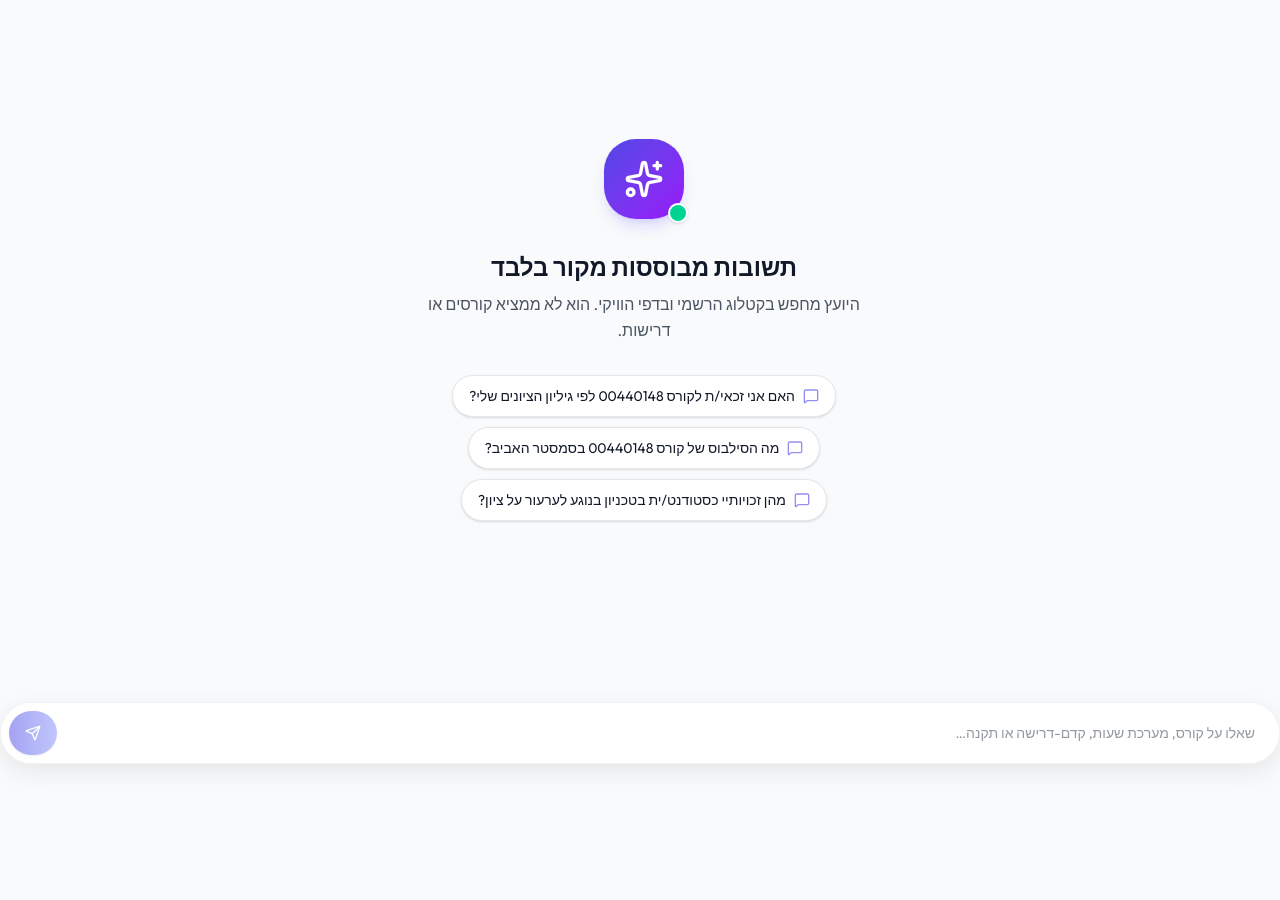
it: AdvisorPage › keeps what already streamed when the failure arrives part way through
Type "How many credits do I have left?" into the field with test id "advisor-input" at (668, 733), box left=65, top=711, right=1271, bottom=755
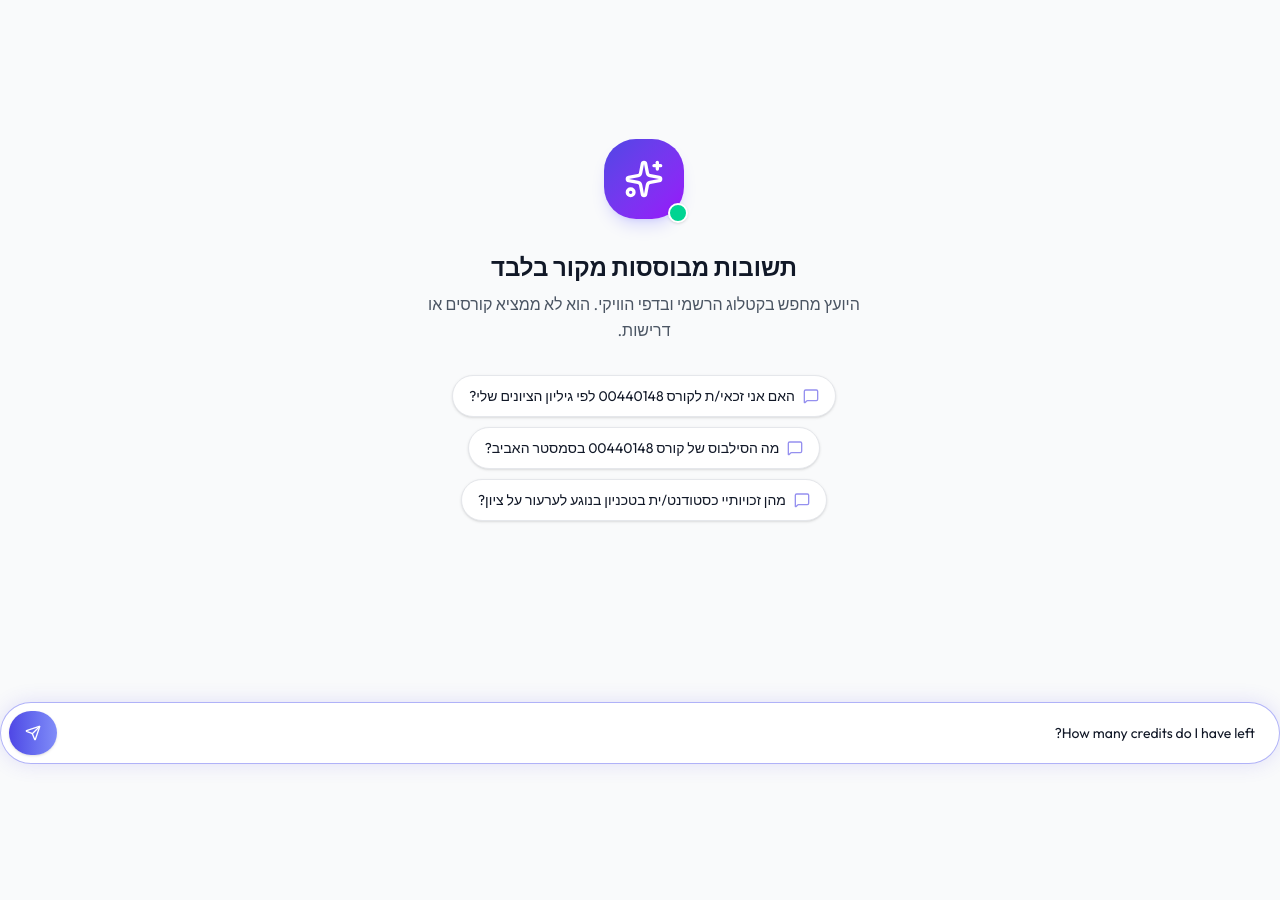
Click the button with test id "advisor-submit" at (33, 733), box left=9, top=711, right=57, bottom=755
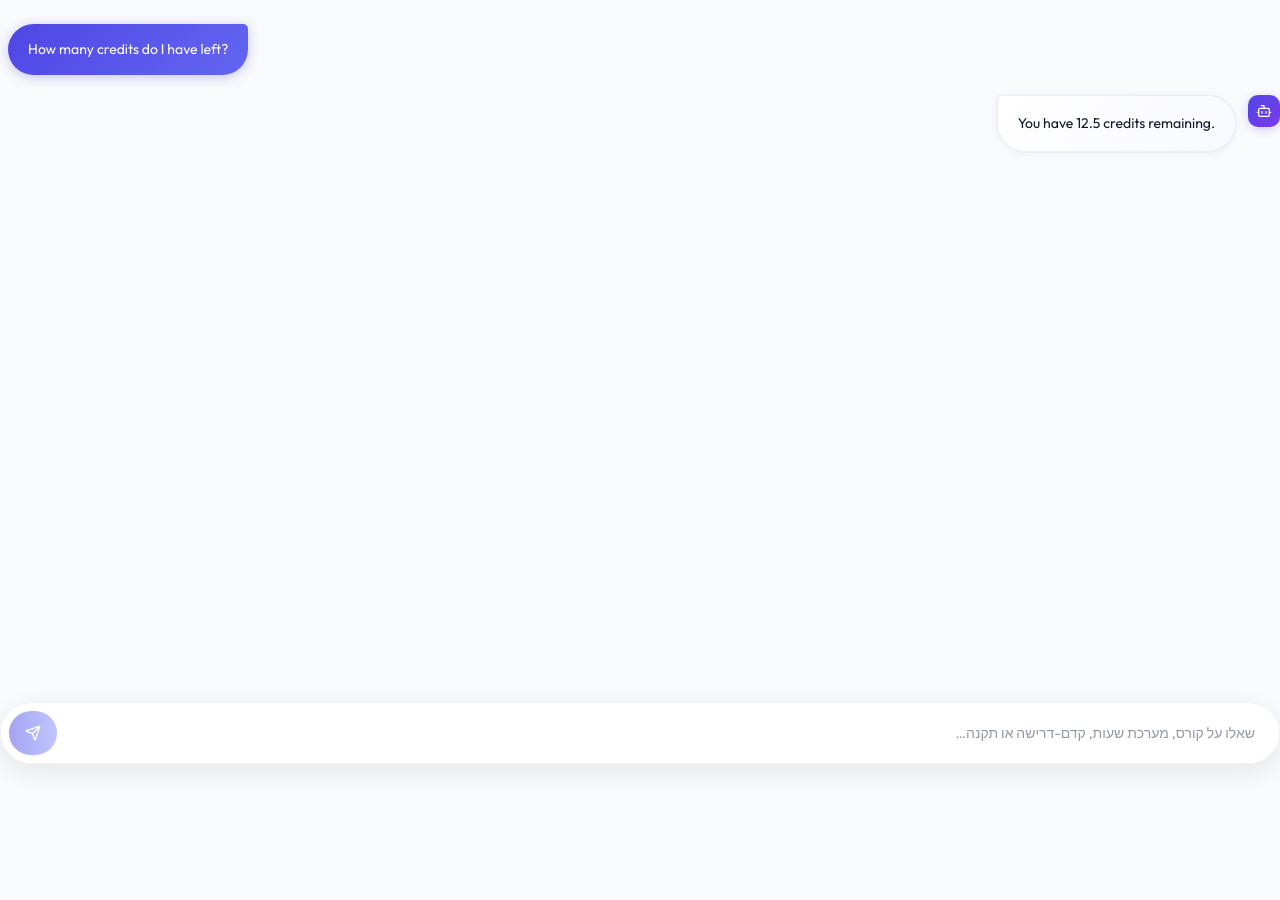
Result: the text "You have 12.5 credits remaining." is shown at left=1018, top=112, right=1215, bottom=135
